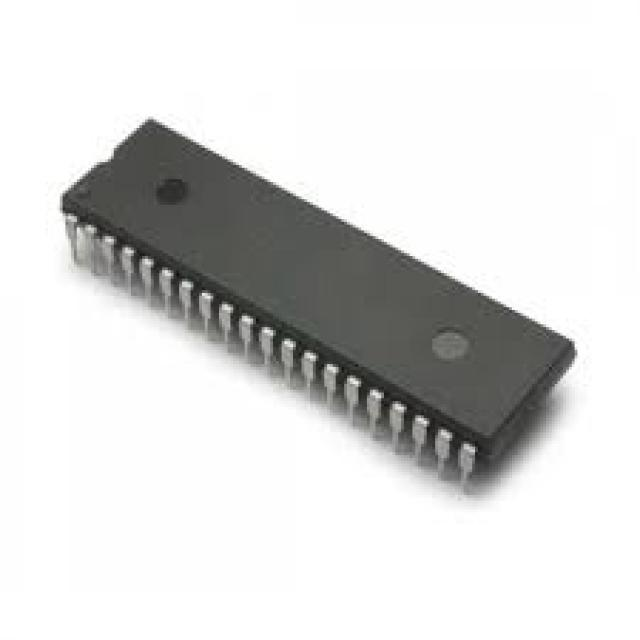IC: (51, 109, 580, 496)
